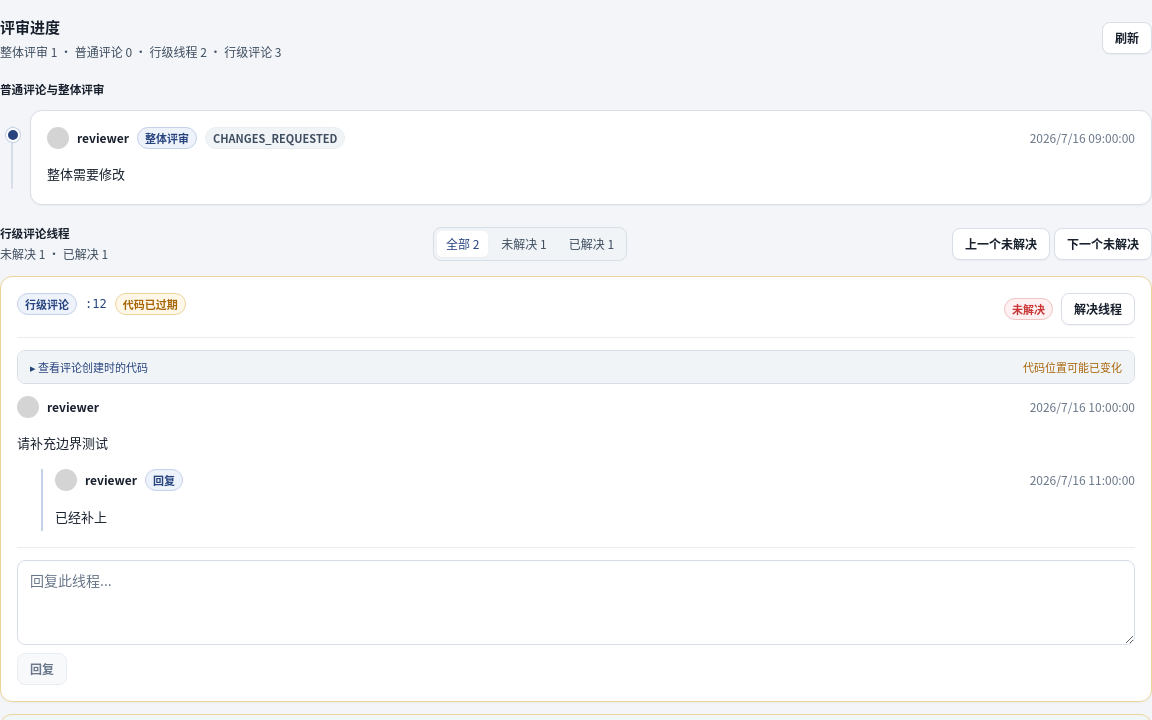
Test: ReviewList › 支持按解决状态筛选并通过平台 API 解决线程
Click the button "未解决 1".
click(524, 244)  # box top-left (492, 232), bottom-right (556, 258)
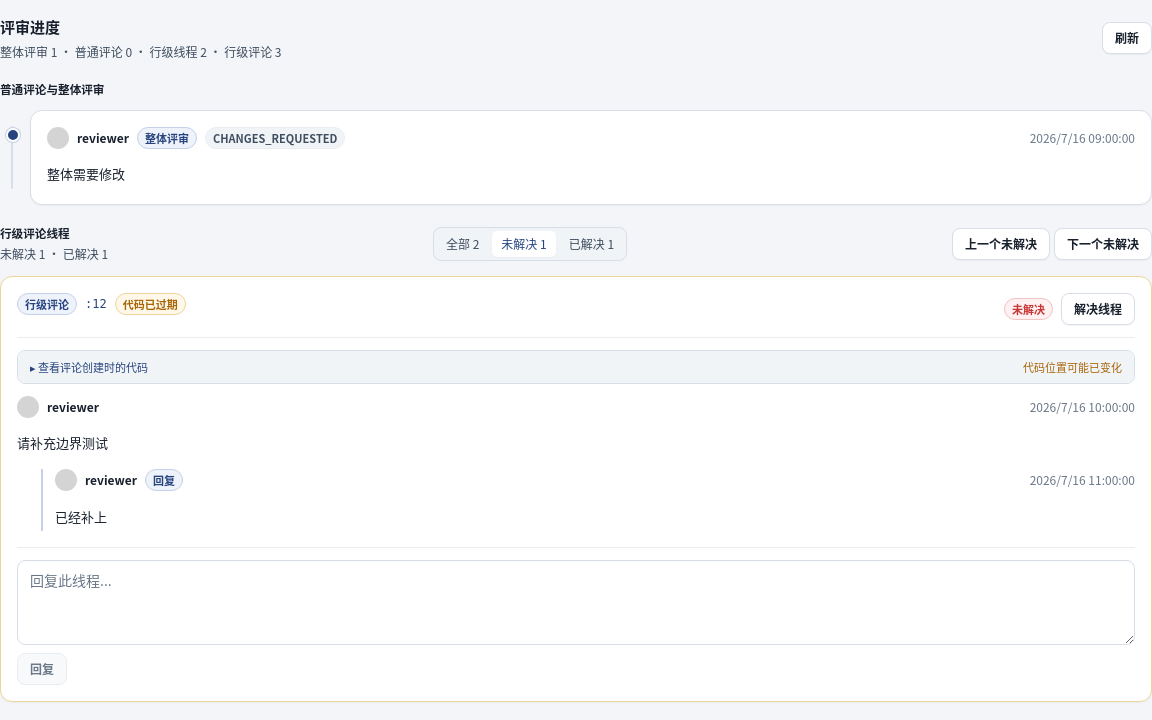
Expected: the number of elements with class "review-thread" is 1, top-left (0, 276), bottom-right (1151, 702)
Click the button "解决线程".
click(1098, 309)  # box top-left (1061, 293), bottom-right (1135, 325)
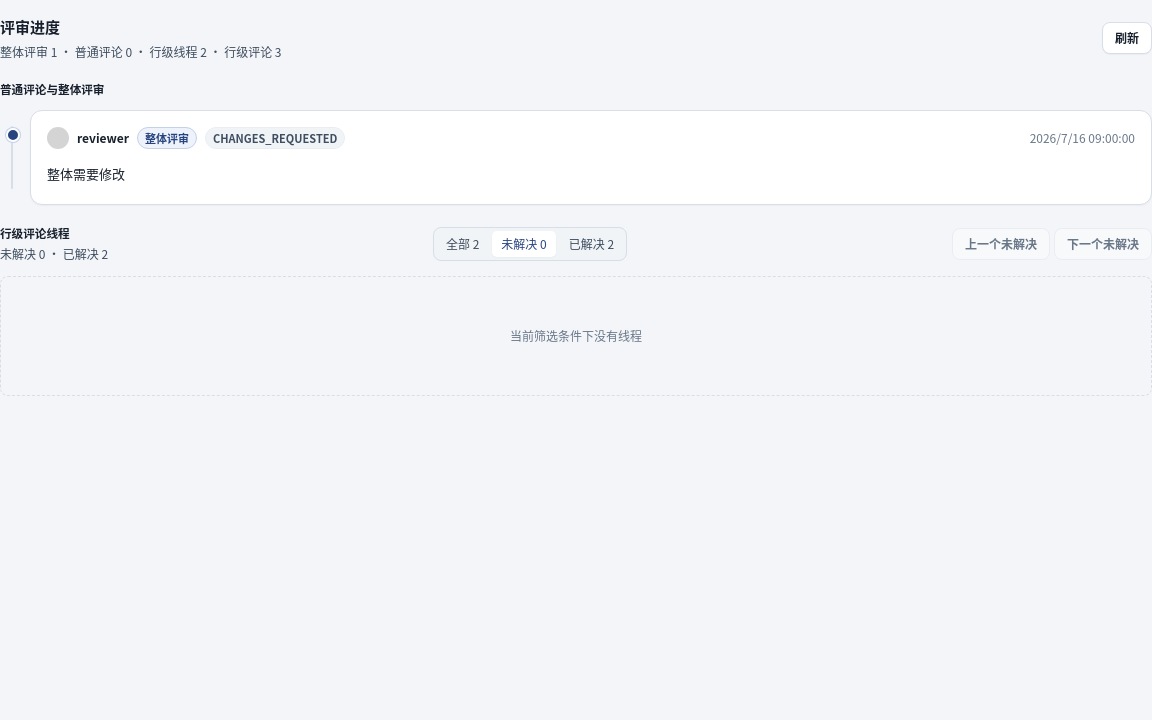
Expected: no elements with class "review-thread" are shown
